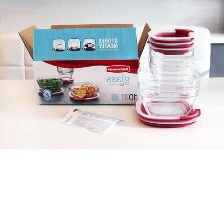book: (13, 15, 155, 109)
plastic_box: (134, 23, 204, 119)
